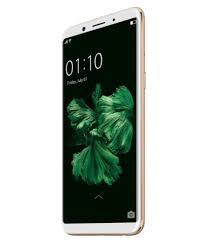oppo: (58, 2, 144, 237)
